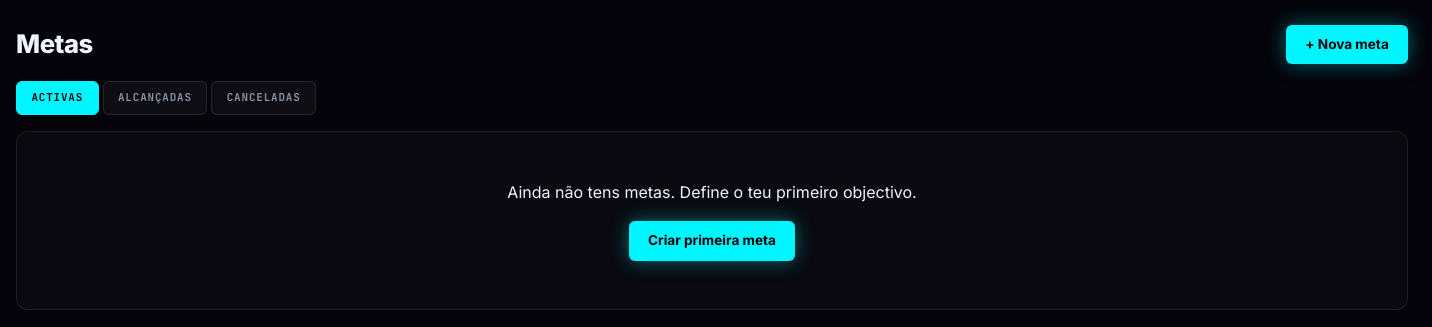
Test case: MetasPage (Story 4.5 / AC9) › C3 — tab Alcançadas: re-subscreve useGoals(achieved), sem "+ Nova meta"
Click the tab "Alcançadas".
click(155, 98)  # box [103,81,207,115]
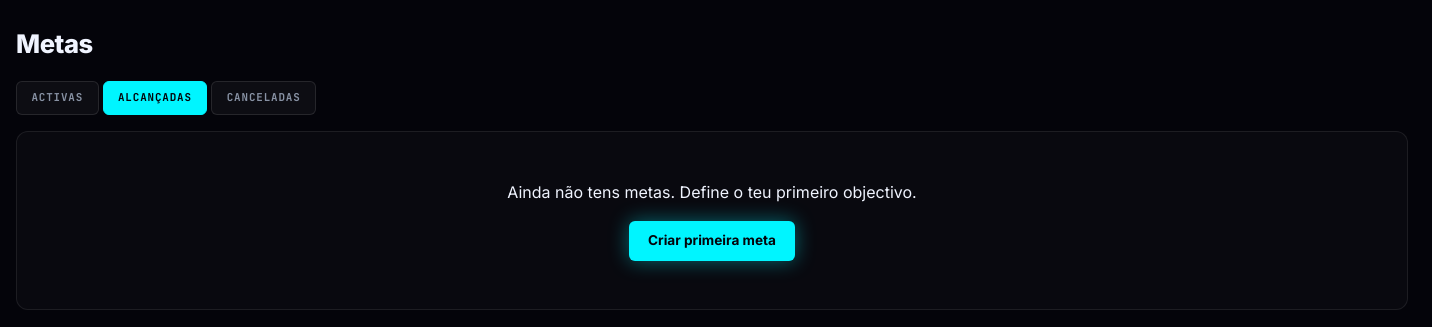
Expected: the button "+ Nova meta" is gone
